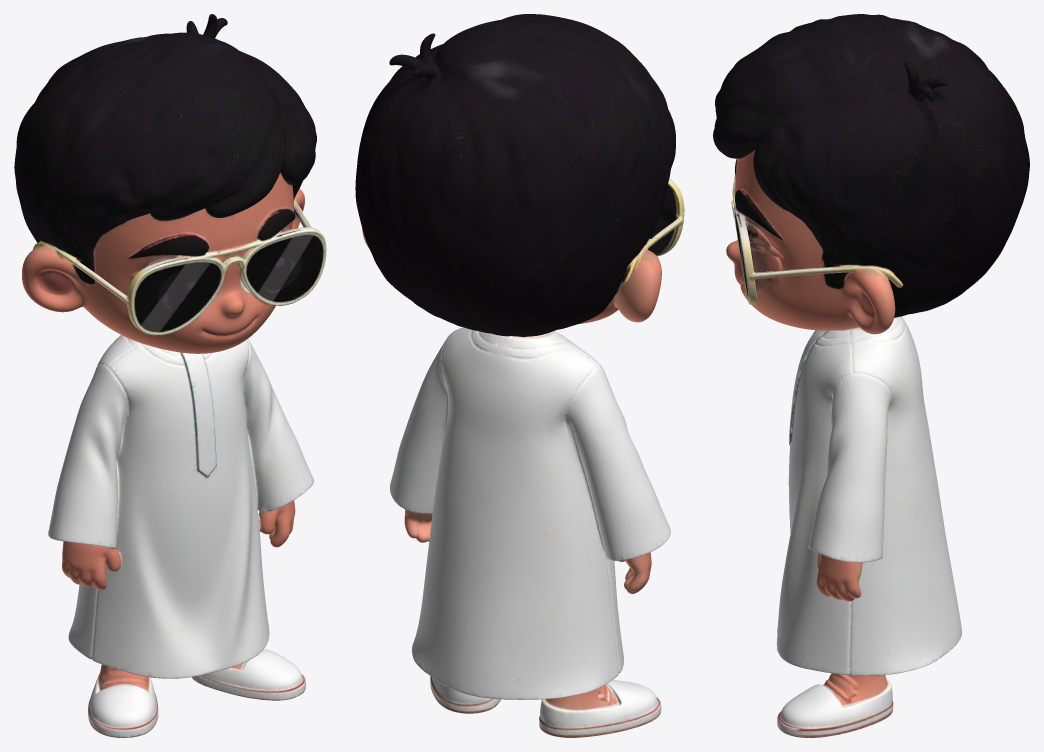
File: zayed-cool-glasses.glb
The picture shows the model from 3 angles, left to right: view 1: azimuth 30°, elevation 25°; view 2: azimuth 150°, elevation 25°; view 3: azimuth 270°, elevation 25°; orthographic projection. The views are drawn at different scales.
Bounding box in the file's own units: 0.8624 × 1.9 × 0.8308.
Materials: 1 (1 with a texture image).
